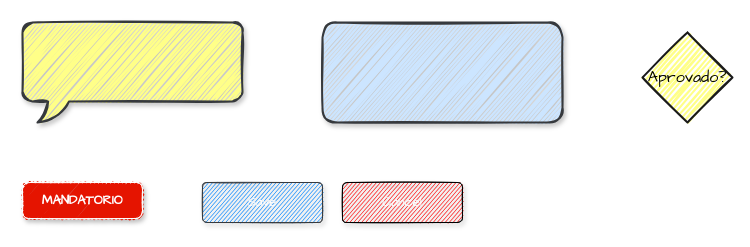
Image size: 750x247. Some labels were removed from this diagram. Each missing label, with the centre of its shape:
Nota de apoio: (133,73)
Validar documentos: (443,73)
